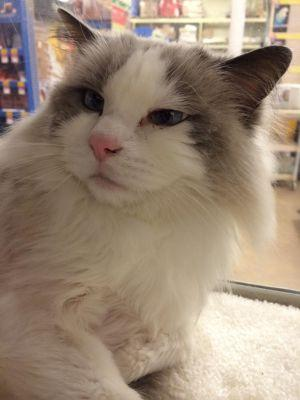ragdoll: (26, 1, 297, 233)
